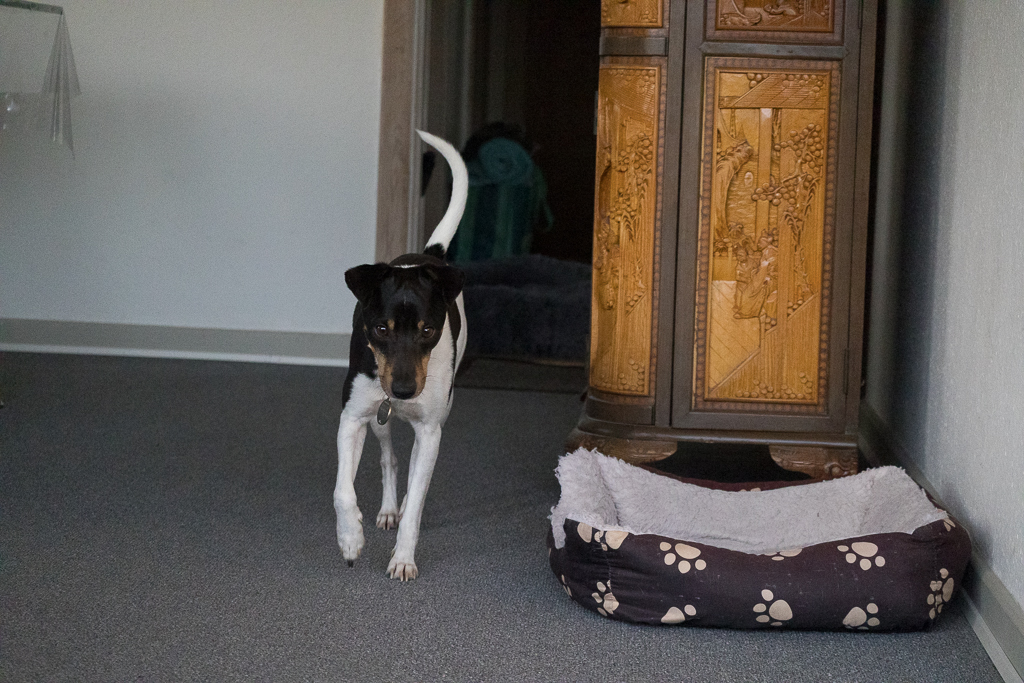Dog: (325, 119, 479, 597)
